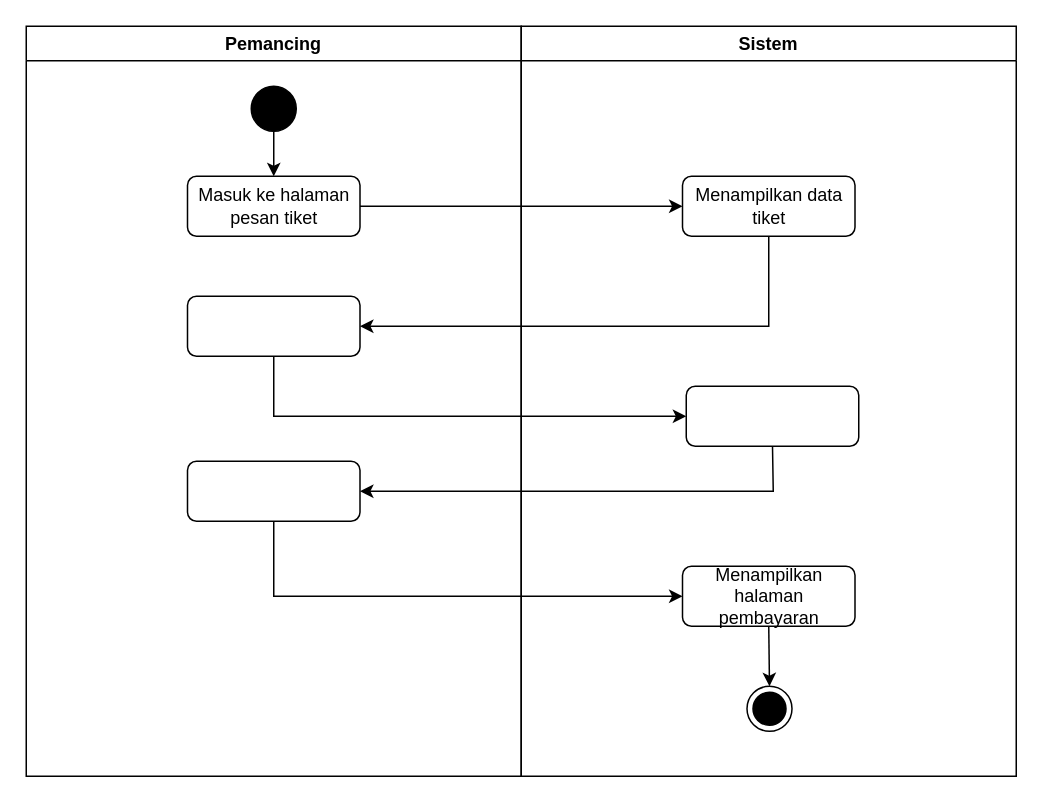
Some shapes in this 1043 by 803 pixel diagram are drawn without their labels. Each missing label, with the centre of its shape:
"Klik tombol pesan" belongs at (x=273, y=490).
"Menampilkan data detail tiket" belongs at (x=772, y=415).
"Pemancing memilih tiket" belongs at (x=273, y=325).
